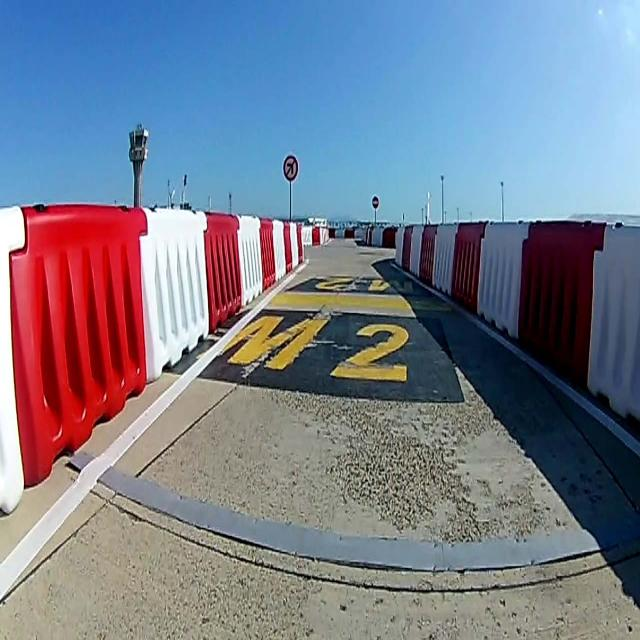soladonulmez: (284, 156, 298, 182)
